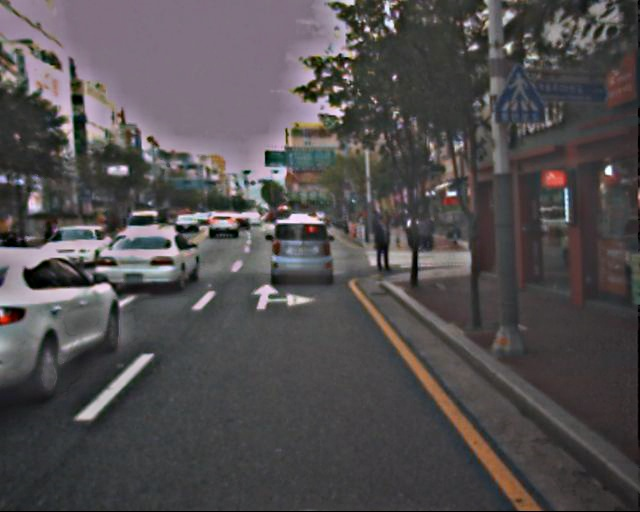person: (368, 214, 393, 274), (405, 218, 433, 254)
